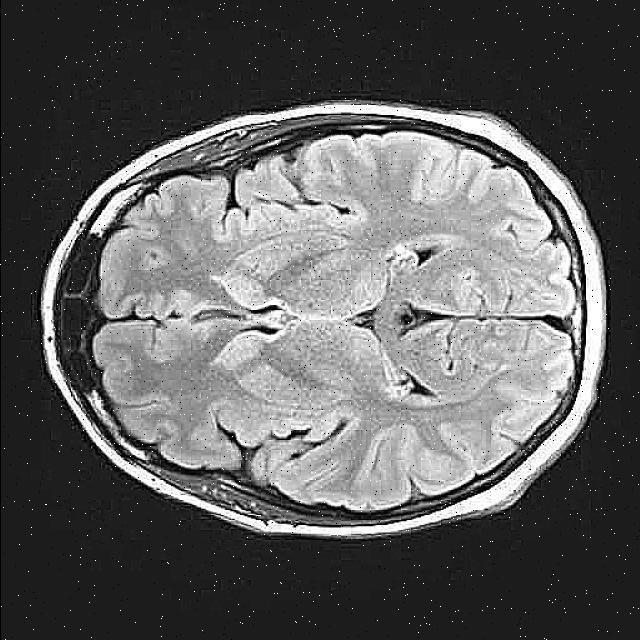No_Tumor: (41, 102, 604, 537)
